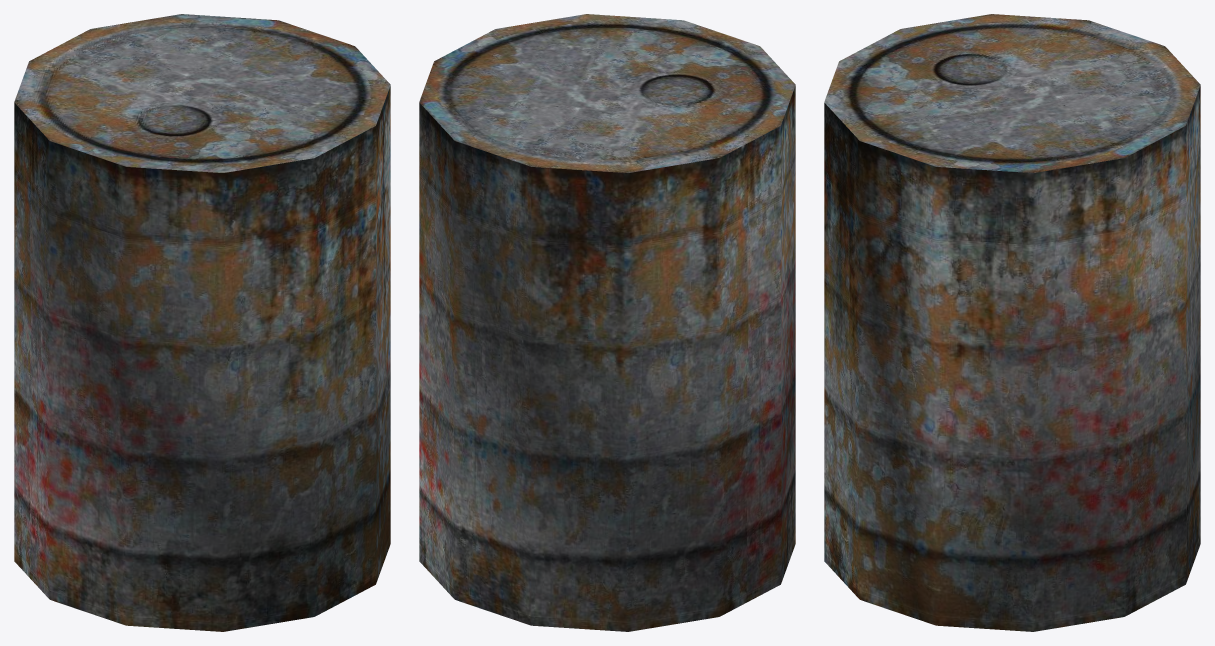
File: bidonmetal.fbx
3 renders of one model, left to right at view 1: azimuth 30°, elevation 25°; view 2: azimuth 150°, elevation 25°; view 3: azimuth 270°, elevation 25°, orthographic.
Parts seen in each view (by area): view 1: barrel; view 2: barrel; view 3: barrel.
Part boxes in pixels (<box>): barrel: <box>14,14,390,631</box>; barrel: <box>419,14,795,631</box>; barrel: <box>824,14,1200,631</box>.
Size of the model in its own units: 7544 by 10142 by 7544.
